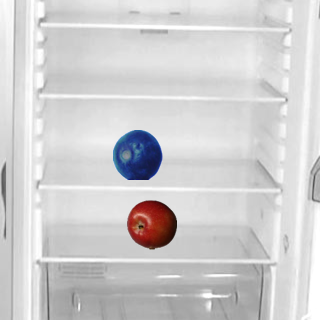Apple Braeburn: (126, 199, 176, 249)
Huckleberry: (112, 129, 162, 179)
